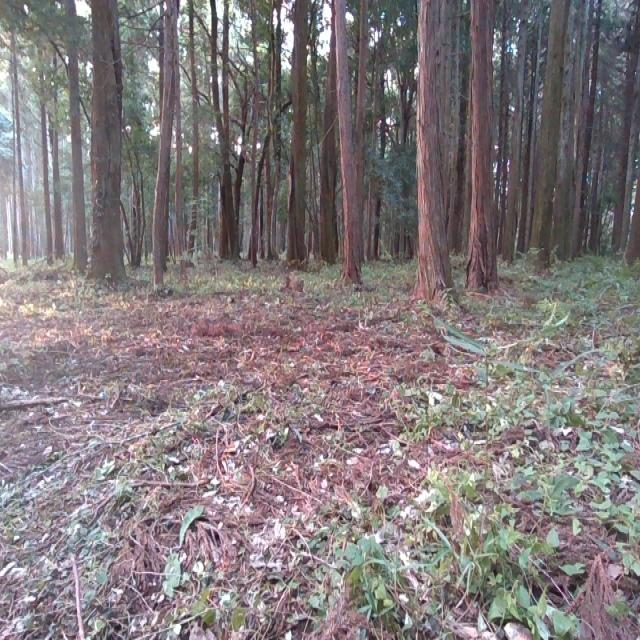tree: (400, 0, 461, 309), (85, 0, 134, 287), (332, 0, 374, 288), (150, 0, 192, 285), (463, 0, 501, 291), (524, 0, 566, 263), (208, 0, 245, 264), (58, 0, 90, 277), (566, 0, 597, 264), (611, 0, 640, 256), (286, 0, 314, 261), (10, 0, 31, 271), (43, 0, 63, 267)
